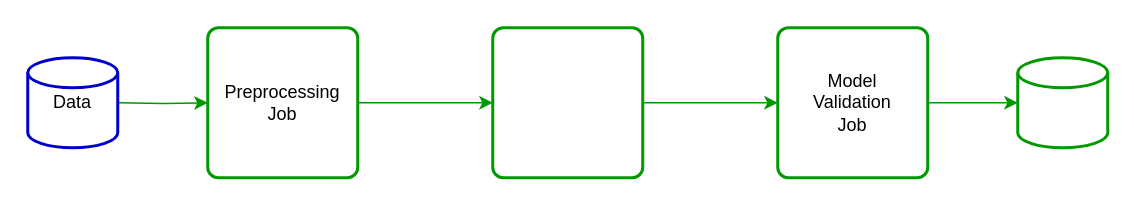
Some shapes in this 1134 by 204 pixel diagram are drawn without their labels. The centre of each missing label's shape, as x and y in pixels:
MODEL: pixel 1062 102
Model Training Job: pixel 567 102
